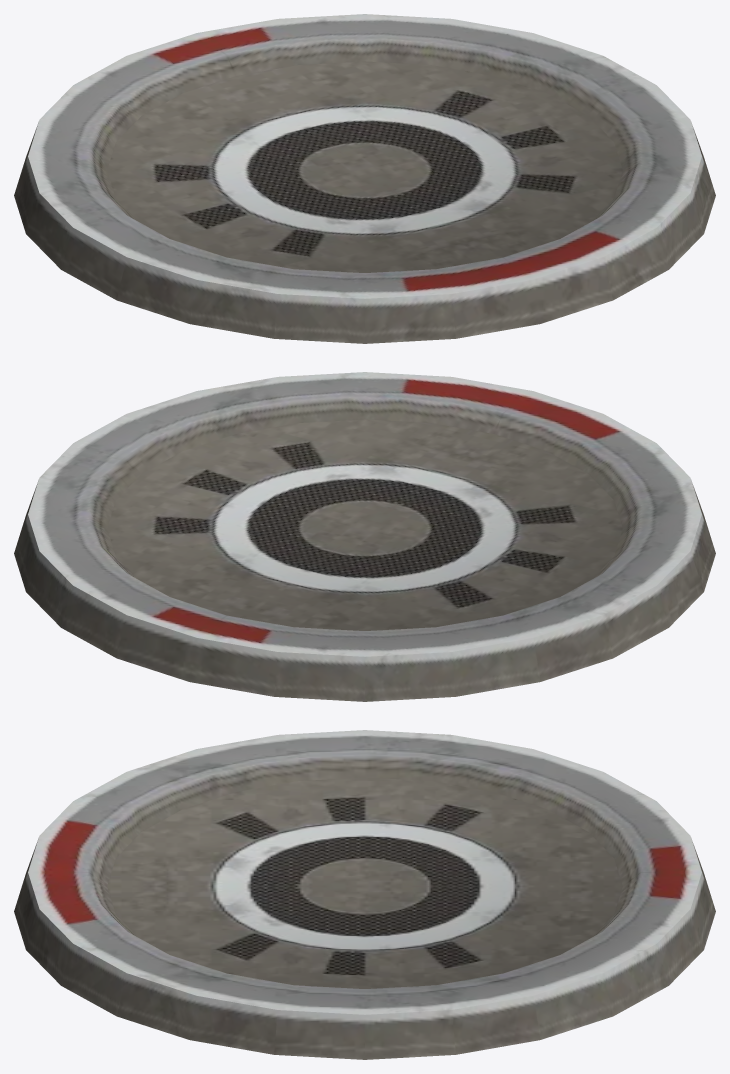
Rendered from Part - Pad 04-DYa169NK.glb.
The picture shows the model from 3 angles, top to bottom: view 1: azimuth 30°, elevation 25°; view 2: azimuth 150°, elevation 25°; view 3: azimuth 270°, elevation 25°; orthographic projection.
Parts seen in each view (by area): view 1: Pad_04; view 2: Pad_04; view 3: Pad_04.
Boxes of the visible parts, x1=… form: Pad_04: x1=14, y1=14, x2=715, y2=343; Pad_04: x1=14, y1=372, x2=715, y2=701; Pad_04: x1=14, y1=730, x2=715, y2=1059.
Size of the model in its own units: 3.01 by 0.1856 by 3.01.
Materials: 1 (1 with a texture image).
